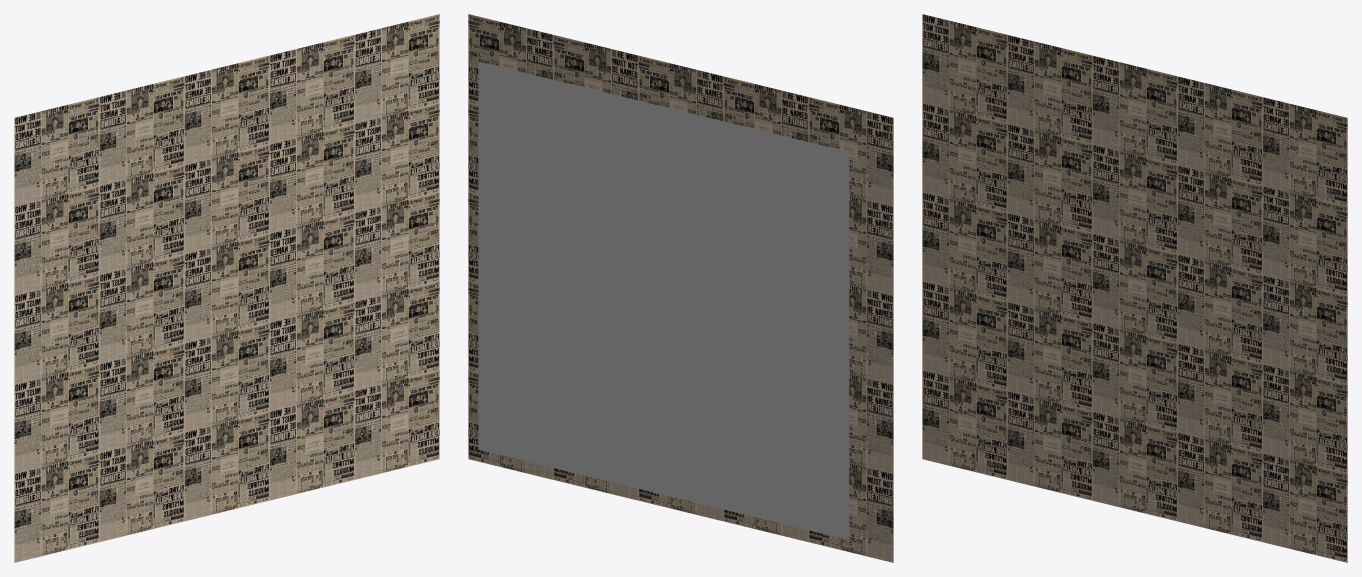
The model's file is MenuCollider.fbx.
3 renders of one model, left to right at view 1: azimuth 30°, elevation 25°; view 2: azimuth 150°, elevation 25°; view 3: azimuth 330°, elevation 25°, orthographic.
Visible parts, largest first — view 1: PlaneMenu_front; view 2: PlaneMenu_back, PlaneMenu_front; view 3: PlaneMenu_front.
Boxes of the visible parts, box(x1,y1,x2,y2) form: PlaneMenu_front: box(14, 14, 439, 562); PlaneMenu_back: box(478, 61, 849, 539); PlaneMenu_front: box(468, 14, 893, 562); PlaneMenu_front: box(922, 14, 1347, 562).
Size of the model in its own units: 91.24 by 91.24 by 6.33.
